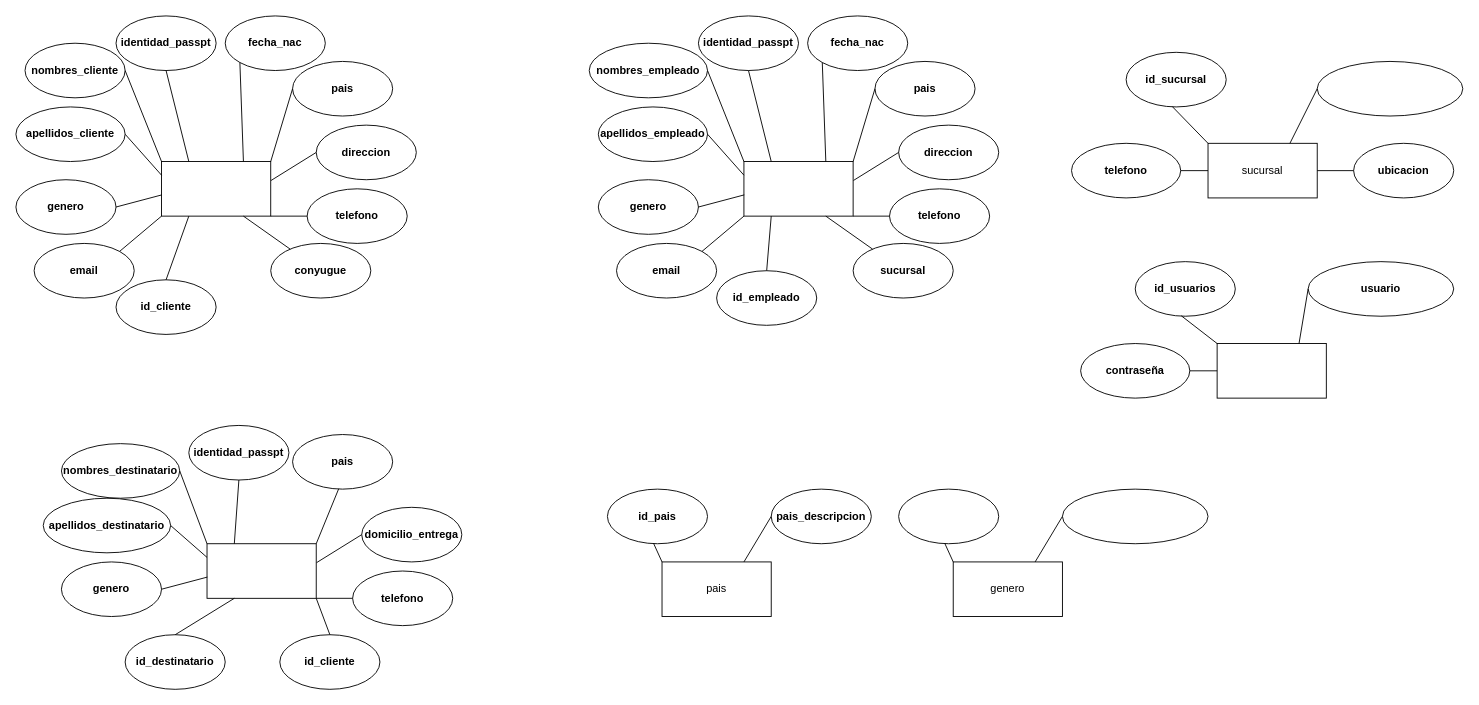
Some shapes in this 1479 by 705 pixel diagram are drawn without their labels. The shapes that lost their labels are listed below. From the top down, each one's centre as x and y in pixels, then its label:
At point (1389, 88): "nombre_sucursal".
At point (216, 188): "Cliente".
At point (798, 188): "empleado".
At point (1271, 370): "usuarios".
At point (948, 516): "id_genero".
At point (1135, 516): "genero_descripcion".
At point (261, 570): "destinatario".
